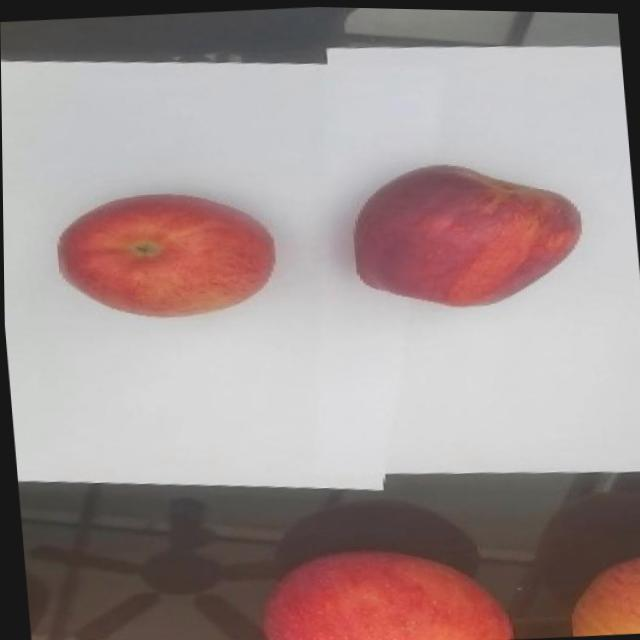Apple: (345, 148, 588, 314), (52, 181, 281, 325), (254, 535, 512, 640), (563, 547, 640, 634)
